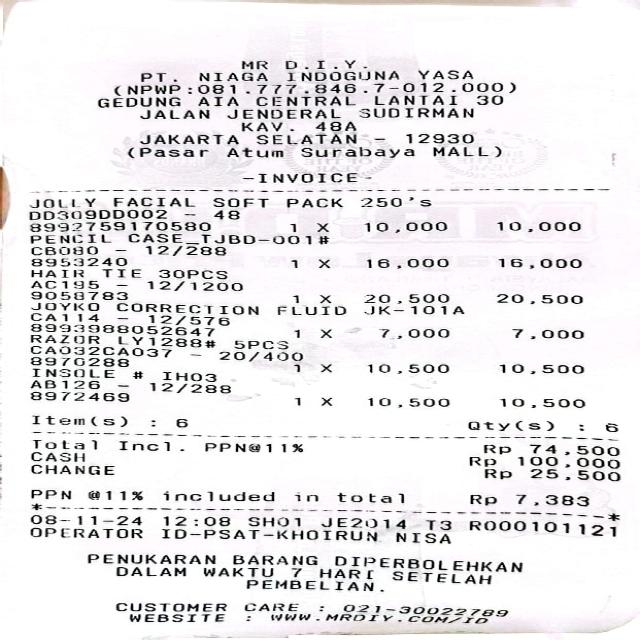date: (15, 511, 244, 531)
store: (229, 55, 369, 72)
total: (25, 436, 630, 458)
